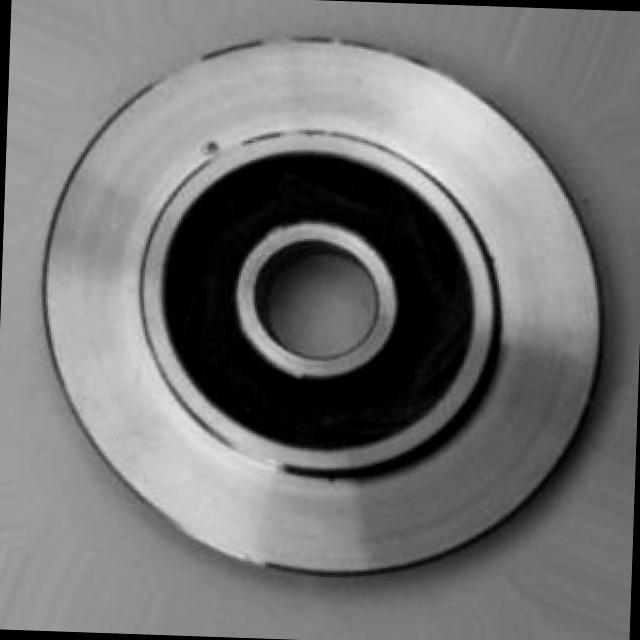Defect: (196, 128, 234, 168)
